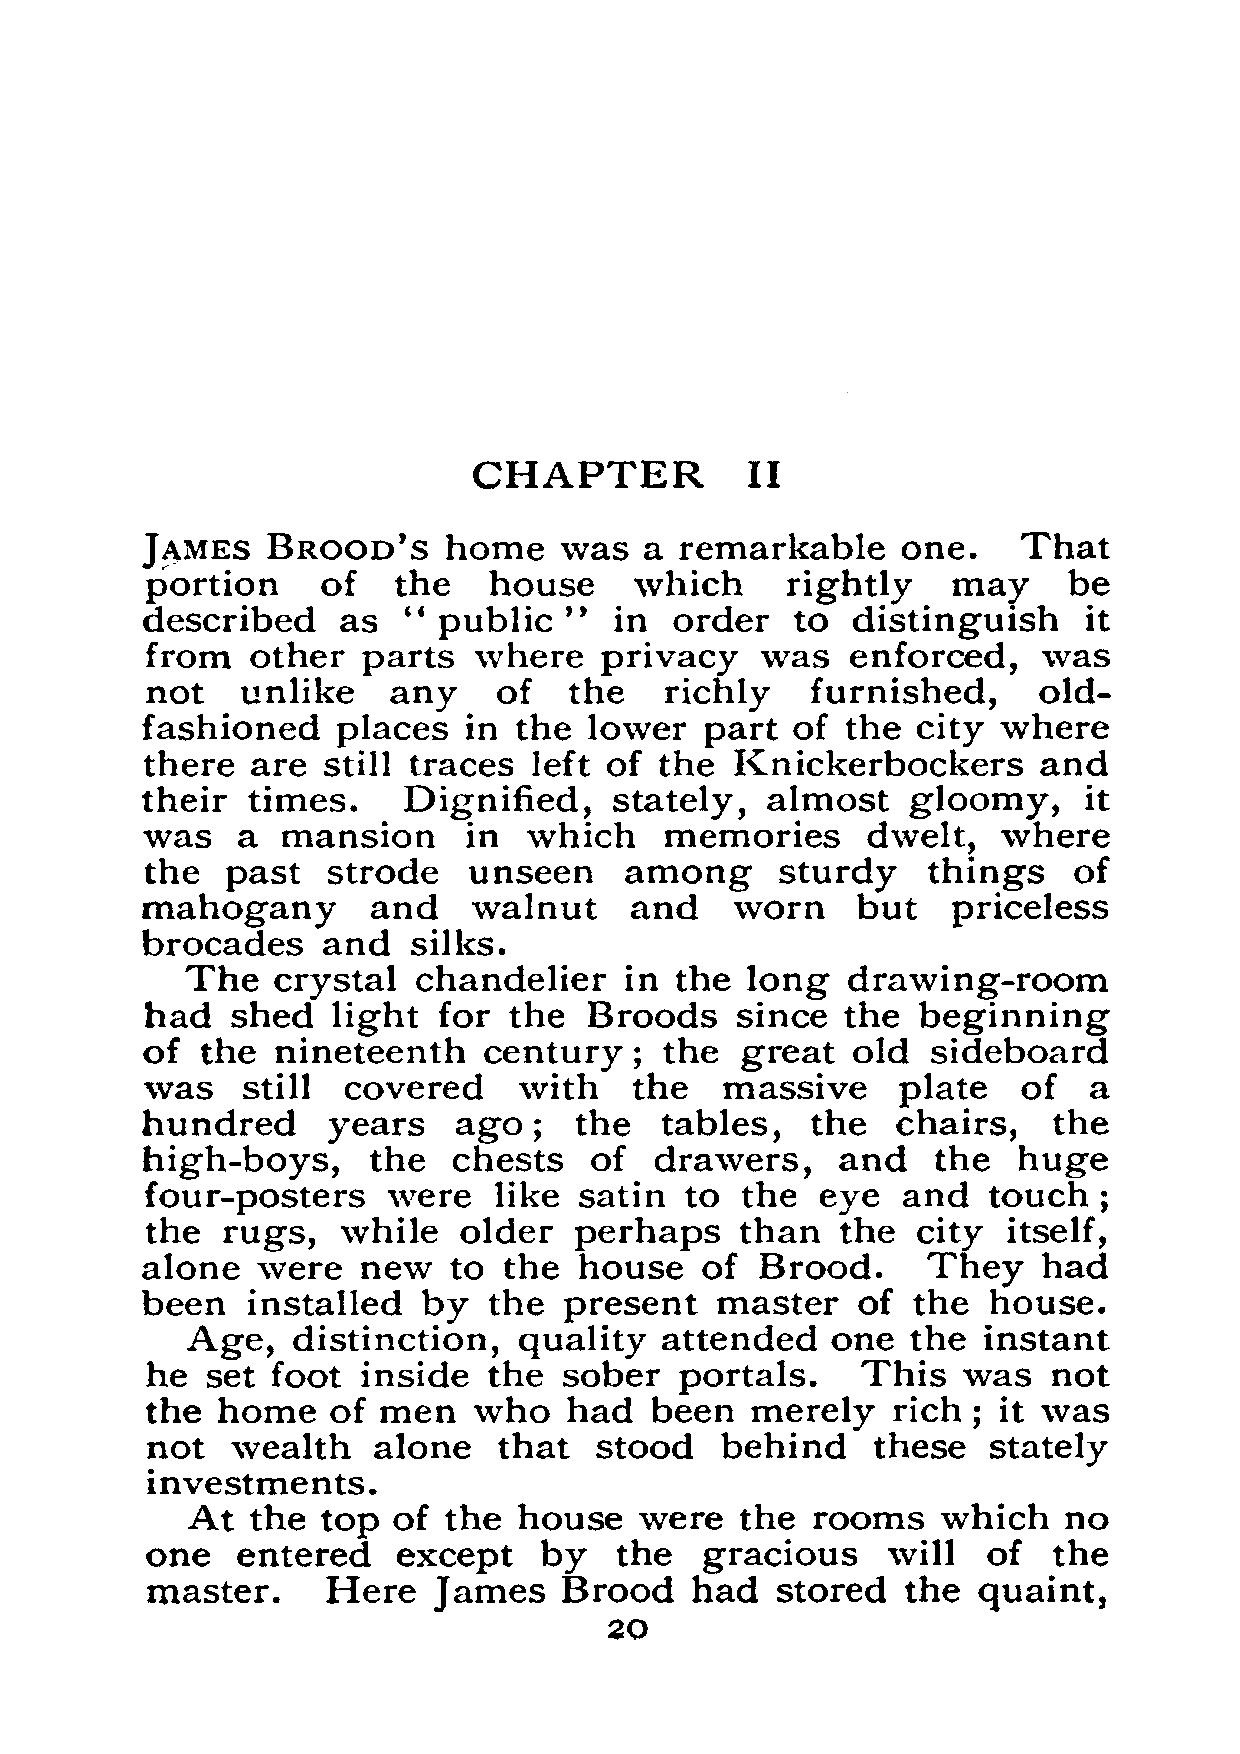chapter: (468, 456, 781, 491)
content: (138, 527, 1113, 1612)
content_pagenumber: (604, 1616, 650, 1641)
